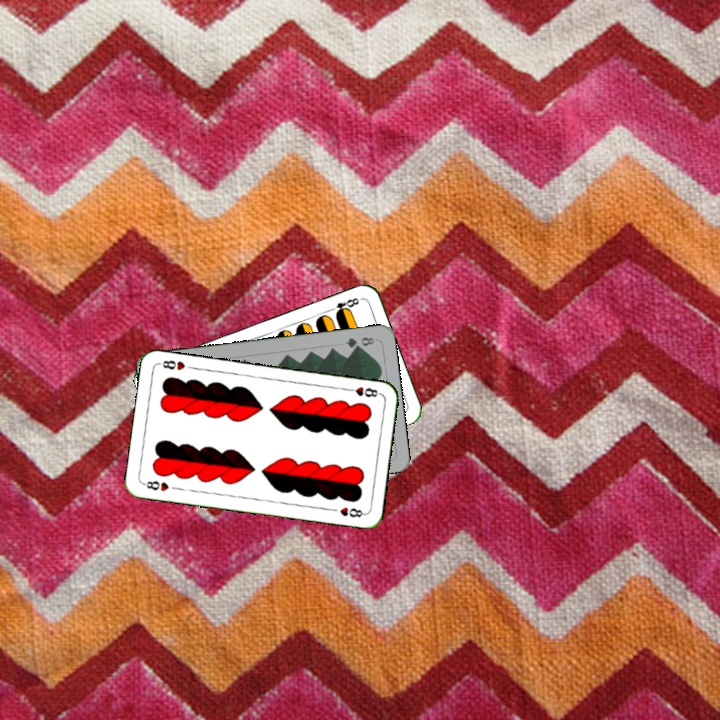E8: (324, 294, 362, 318)
G8: (341, 333, 377, 351)
H8: (342, 383, 383, 400), (139, 476, 171, 494)
